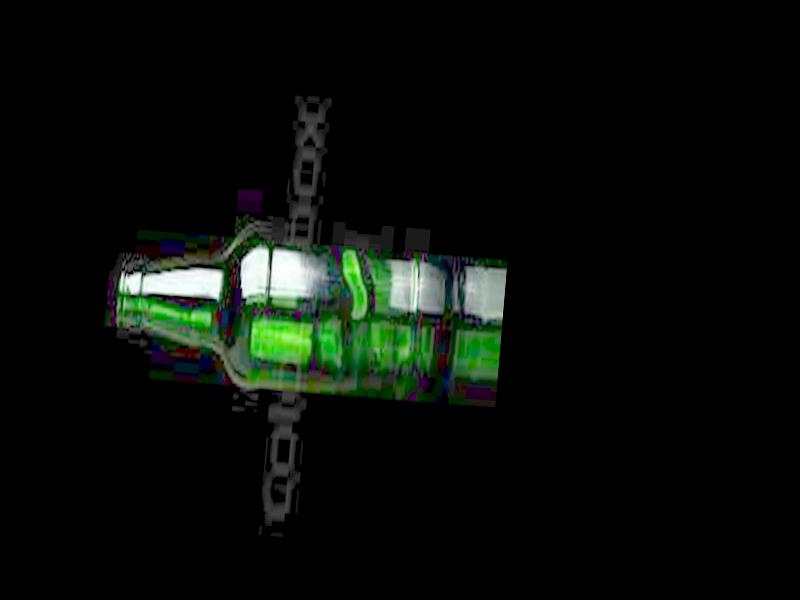Beer: (111, 234, 422, 403)
